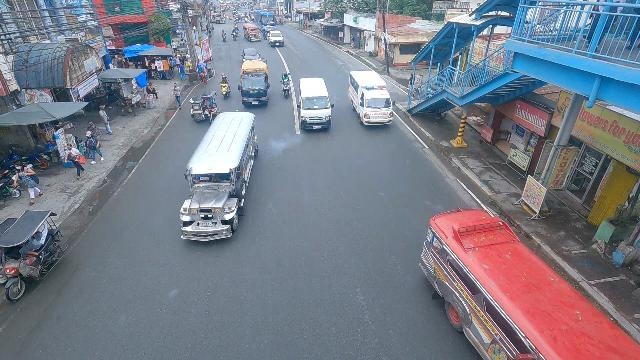bus: (253, 8, 276, 30)
car: (267, 30, 286, 49)
jeepney: (414, 205, 640, 360), (178, 110, 260, 243), (243, 23, 261, 43)
motorcycle: (279, 74, 293, 100), (219, 76, 232, 100), (231, 27, 238, 41), (221, 29, 227, 42), (262, 27, 267, 40)
truck: (236, 61, 271, 109)
van: (348, 69, 396, 130), (295, 76, 334, 134)
